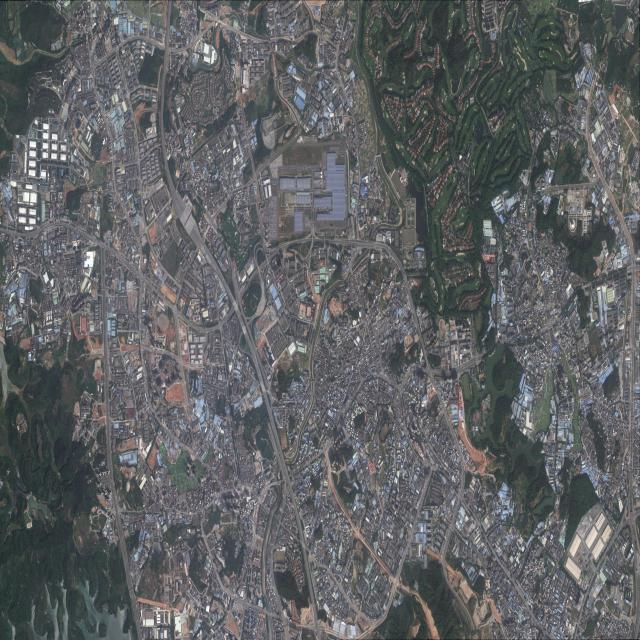storage-tank: (176, 545, 178, 548), (173, 549, 174, 553), (321, 171, 322, 175), (585, 228, 586, 231), (173, 546, 174, 549), (321, 175, 322, 178), (585, 226, 586, 228)
